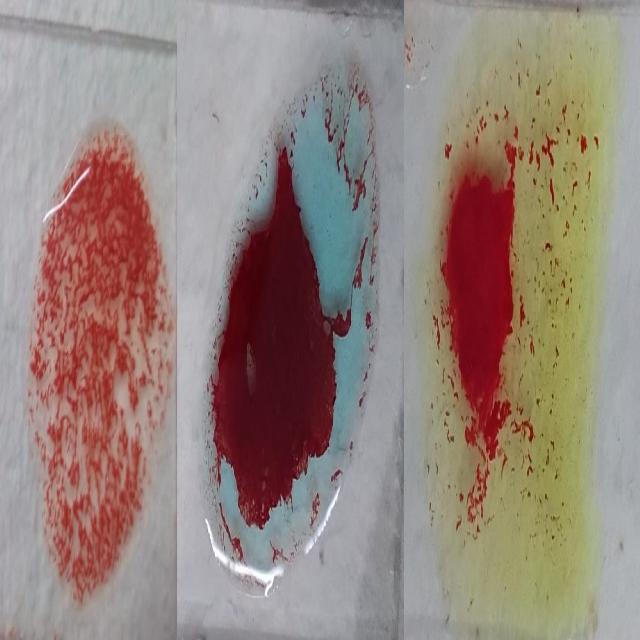A: (202, 54, 376, 584)
B: (426, 14, 586, 622)
D: (32, 124, 168, 591)
